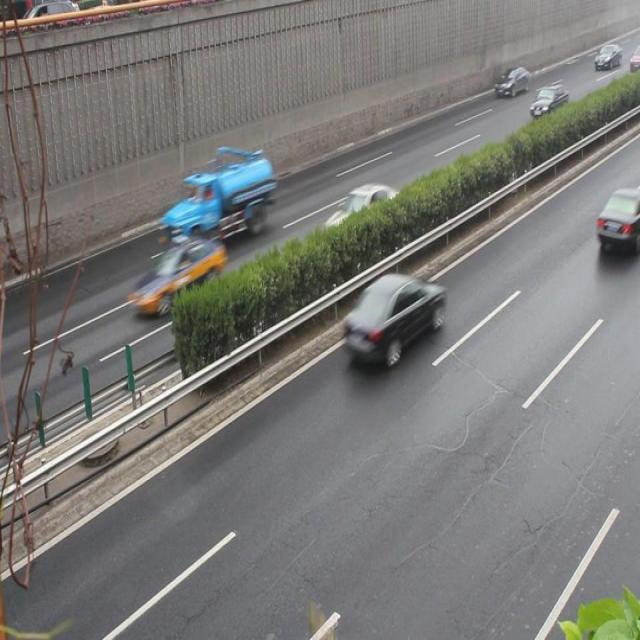car: (342, 273, 443, 358), (128, 234, 226, 316), (323, 180, 401, 247), (594, 182, 639, 252), (527, 84, 566, 120), (492, 63, 527, 97)
